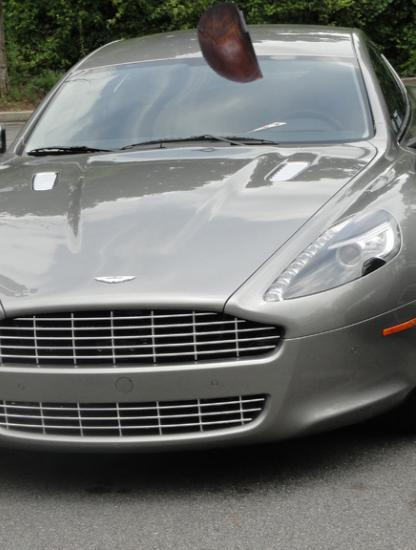Chestnut: (182, 2, 271, 91)
